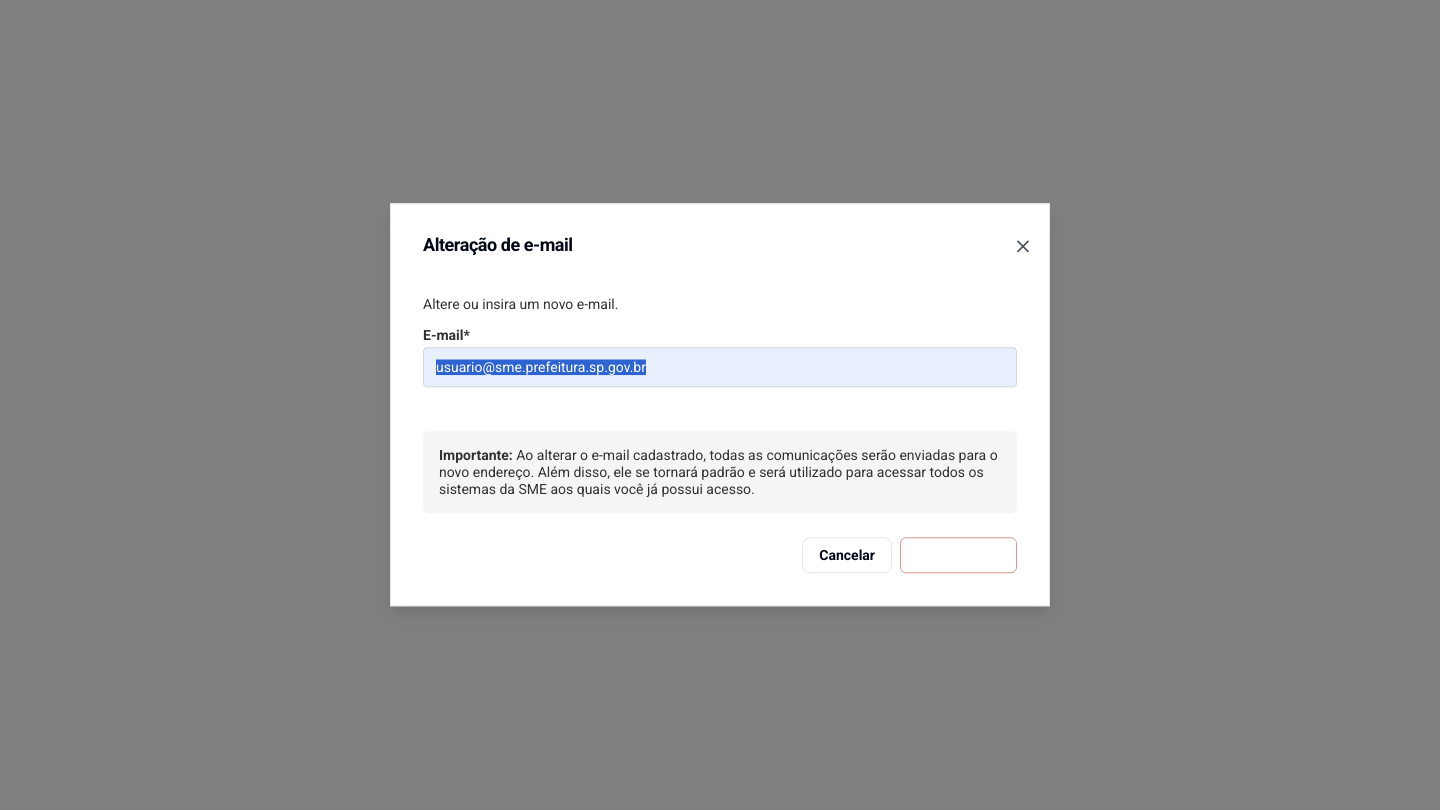
Test case: ModalAlterarEmail › habilita o botão Salvar quando o e-mail é alterado para um formato válido diferente do atual
The image size is (1440, 810).
Replace the text in the field with test id "input-email" with "novo@sme.prefeitura.sp.gov.br" at x=720, y=367, box x1=423 y1=347 x2=1017 y2=387
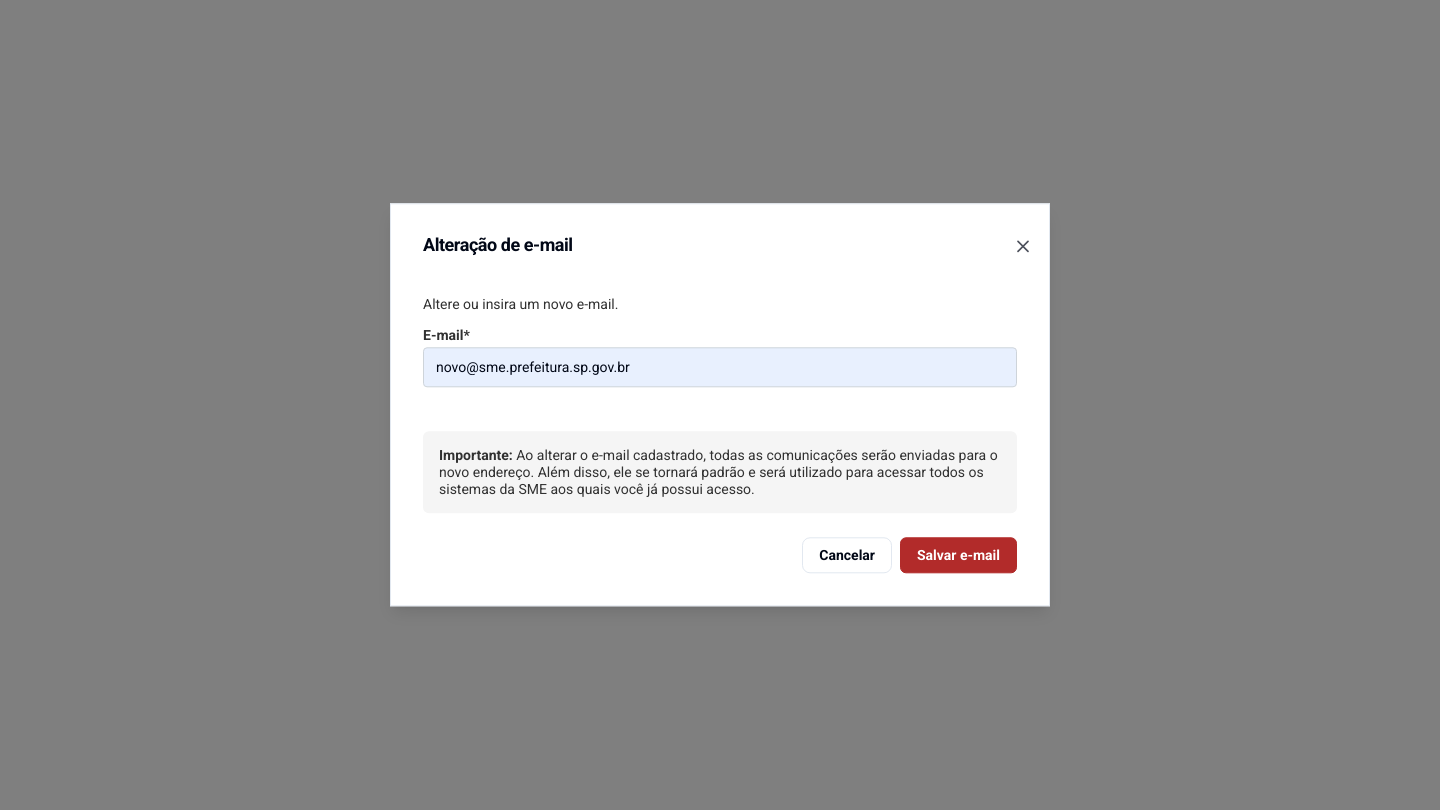
Result: the button "Salvar e-mail" is enabled at x1=900 y1=538 x2=1017 y2=574
